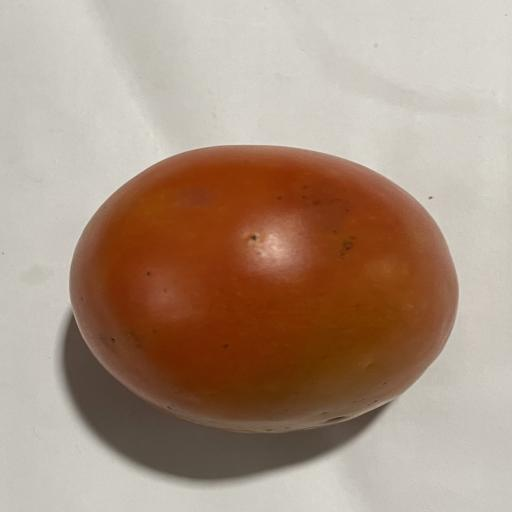ripe: (69, 145, 458, 433)
